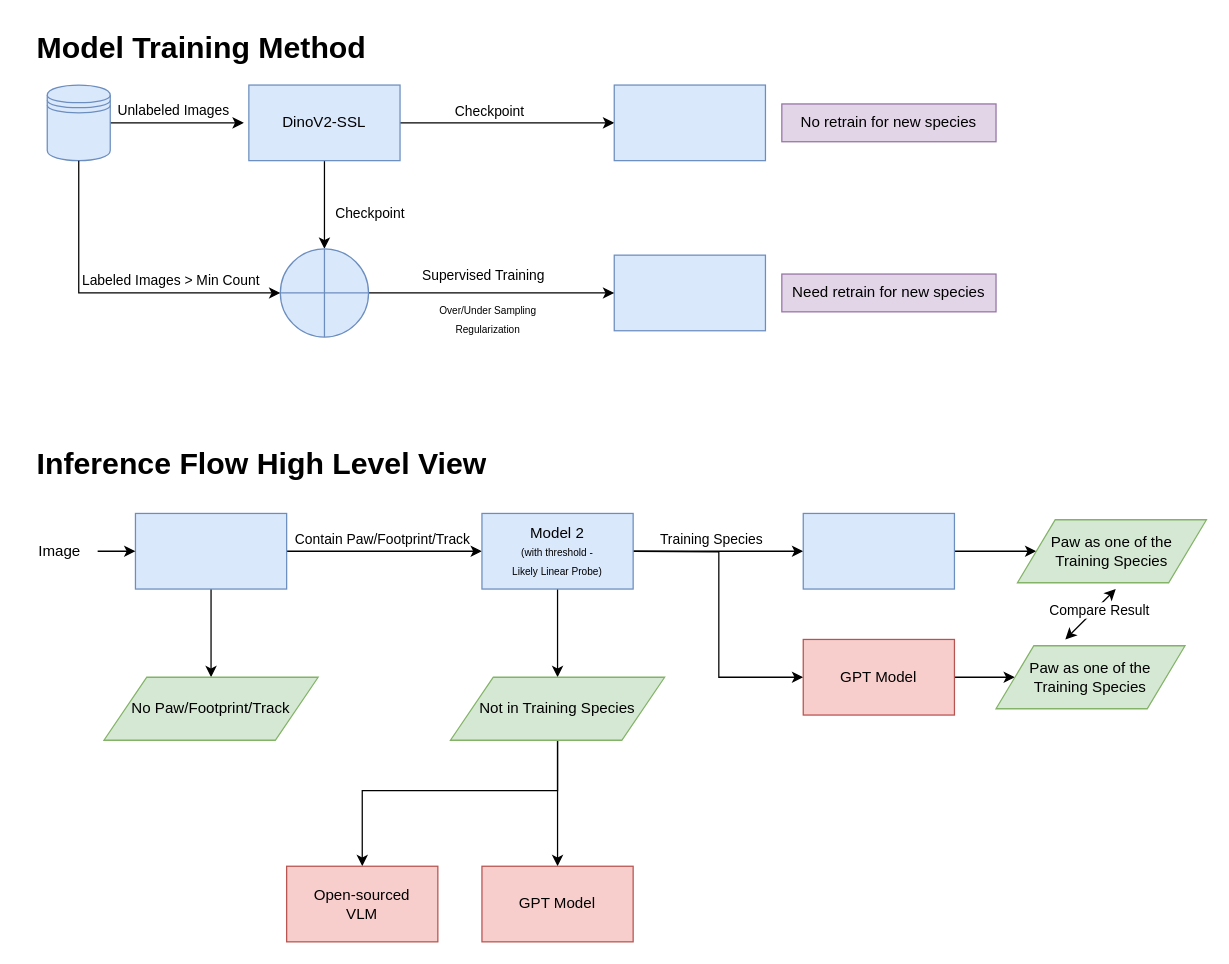
This 1229x964 diagram has some shape labels left out. The box of each missing label's shape, as (x1, y1, x2, y2) in pixels:
Data: (46, 84, 110, 161)
KNN: (613, 84, 765, 161)
Linear Probe: (613, 254, 765, 331)
Model 1 or VLM (Optional): (134, 512, 287, 589)
Model 3 (KNN or Linear Probe): (802, 512, 954, 589)
